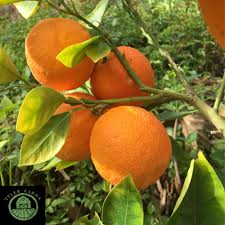orange: (90, 106, 175, 190), (23, 16, 94, 91), (38, 88, 98, 163), (88, 44, 155, 108)
